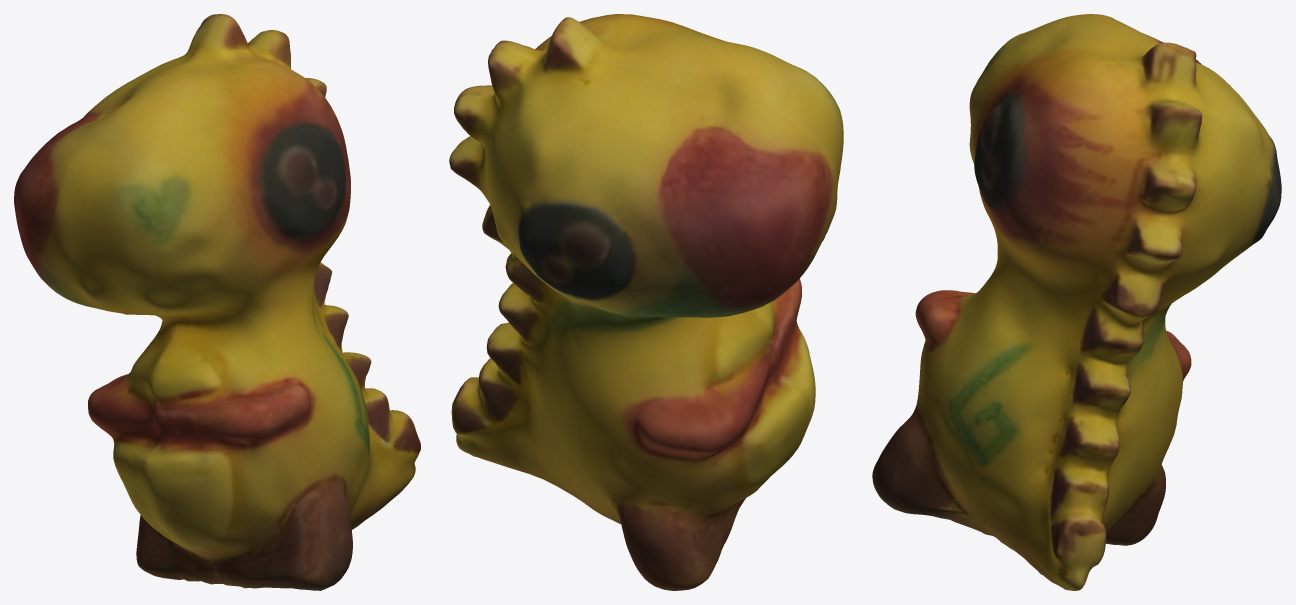
File: 3DModel.glb
The picture shows the model from 3 angles, left to right: view 1: azimuth 30°, elevation 25°; view 2: azimuth 150°, elevation 25°; view 3: azimuth 270°, elevation 25°; orthographic projection. The views are drawn at different scales.
Visible parts, largest first — view 1: 3DModel; view 2: 3DModel; view 3: 3DModel.
Boxes of the visible parts, x1,y1,x2,y2 form: 3DModel: [14, 14, 420, 590]; 3DModel: [449, 14, 843, 590]; 3DModel: [872, 14, 1281, 590].
Size of the model in its own units: 0.1141 by 0.1589 by 0.1099.
Materials: 1 (1 with a texture image).
